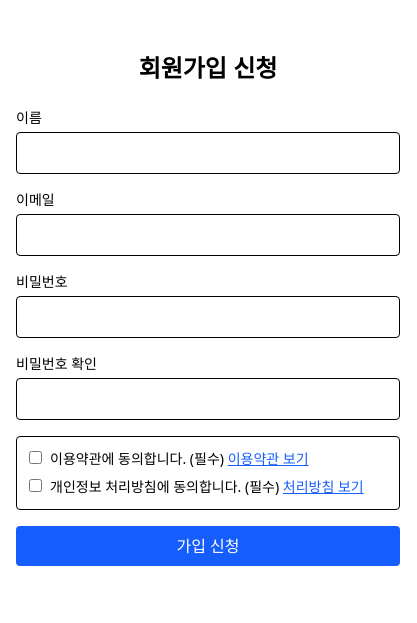
RegisterPage › 비밀번호가 복잡성 규칙을 충족하지 않으면 오류 메시지를 표시한다
The image size is (417, 623).
In the field labelled "이름": [208, 153] box 16,132 -> 400,174, type "홍길동"
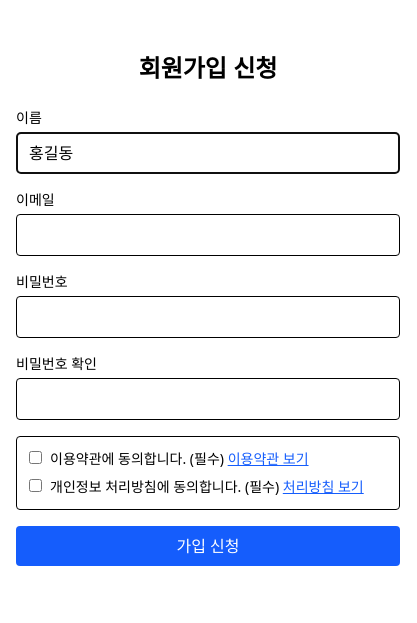
In the field labelled "이메일": [208, 235] box 16,214 -> 400,256, type "test@example.com"
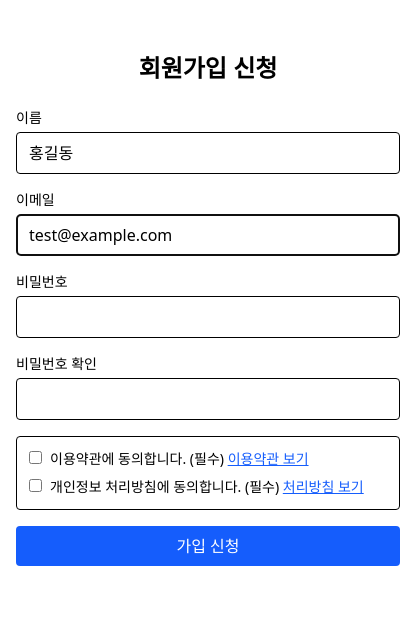
In the password field labelled "비밀번호": [208, 317] box 16,296 -> 400,338, type "password123"
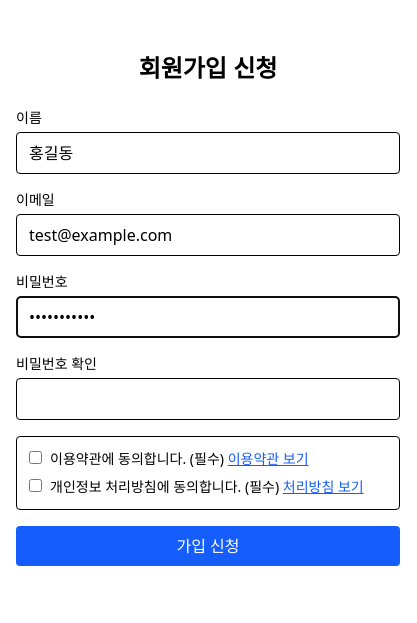
In the password field labelled "비밀번호 확인": [208, 399] box 16,378 -> 400,420, type "password123"
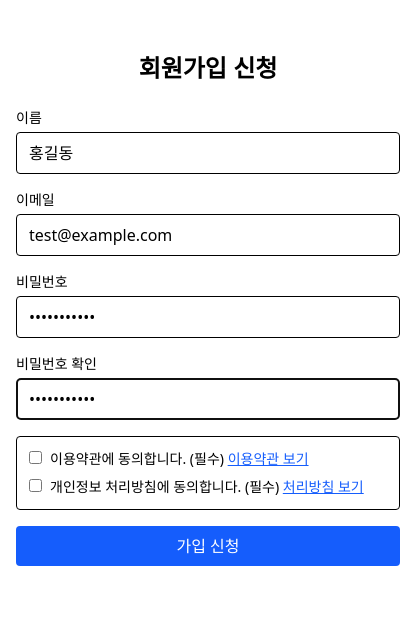
Click the button "가입 신청": [208, 546] box 16,526 -> 400,566
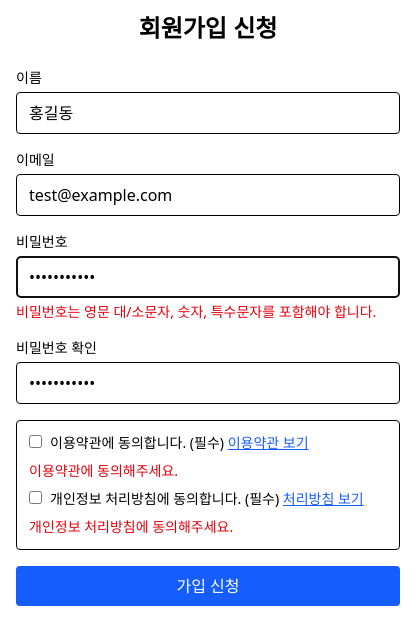
Check: the text "비밀번호는 영문 대/소문자, 숫자, 특수문자를 포함해야 합니다." is shown, box 16,302 -> 400,322
